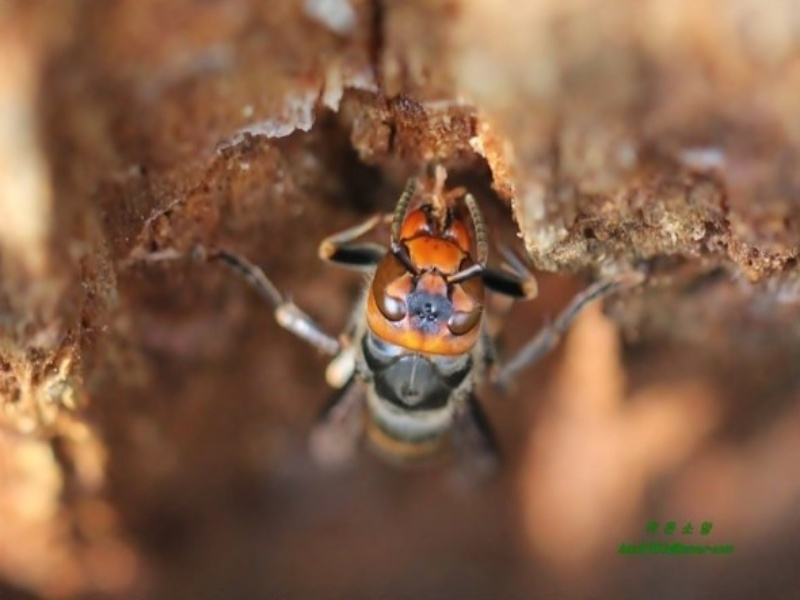asian_giant_hornet: (207, 171, 622, 466)
